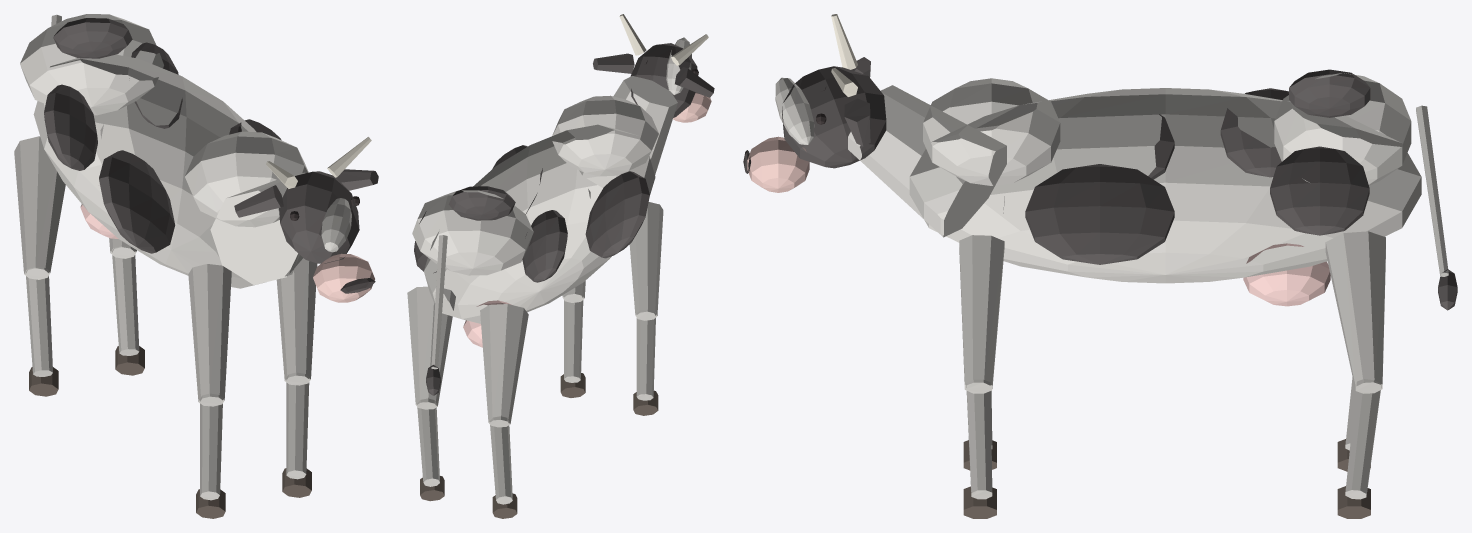
The model's file is cow.glb.
3 views of the same model, side by side, from view 1: azimuth 30°, elevation 25°; view 2: azimuth 150°, elevation 25°; view 3: azimuth 270°, elevation 25° (orthographic). The views are drawn at different scales.
Visible parts, largest first — view 1: Body, Body.Withers, Body.Hips, Body.Patch, Leg.BR, Head.Neck, Leg.FR, Head.Skull, Leg.FL, Body.Patch#2, Body.Patch#5, Leg.BR.Shin (+14 smaller); view 2: Body, Body.Hips, Body.Withers, Leg.BR, Body.Patch, Leg.BL, Leg.FR, Head.Neck, Body.Patch#2, Head.Skull, Body.Patch#5, Leg.FR.Shin (+16 smaller); view 3: Body, Body.Patch#3, Body.Withers, Head.Neck, Leg.BL, Body.Patch#4, Body.Hips, Leg.FL, Head.Skull, Body.Patch#5, Body.Udder, Leg.BL.Shin (+9 smaller).
Boxes of the visible parts, box(x1,y1,x2,y2) form: Body: box(33, 54, 299, 288); Body.Withers: box(185, 131, 308, 227); Body.Hips: box(20, 14, 163, 115); Body.Patch: box(99, 150, 175, 253); Leg.BR: box(14, 136, 65, 279); Head.Neck: box(210, 172, 321, 284); Leg.FR: box(188, 264, 231, 406); Head.Skull: box(279, 171, 359, 263); Leg.FL: box(276, 258, 317, 385); Body.Patch#2: box(44, 84, 97, 170); Body.Patch#5: box(53, 18, 132, 58); Leg.BR.Shin: box(25, 267, 52, 376); Body: box(424, 124, 655, 323); Body.Hips: box(412, 190, 533, 275); Body.Withers: box(552, 95, 658, 176); Leg.BR: box(480, 304, 528, 427); Body.Patch: box(585, 171, 649, 258); Leg.BL: box(407, 286, 455, 409); Leg.FR: box(629, 202, 663, 320); Head.Neck: box(579, 76, 677, 187); Body.Patch#2: box(522, 210, 567, 282); Head.Skull: box(630, 43, 697, 117); Body.Patch#5: box(448, 186, 515, 220); Leg.FR.Shin: box(636, 309, 655, 400); Body: box(909, 88, 1421, 283); Body.Patch#3: box(1025, 164, 1174, 264); Body.Withers: box(923, 78, 1060, 185); Head.Neck: box(848, 85, 1006, 237); Leg.BL: box(1325, 231, 1385, 393); Body.Patch#4: box(1270, 146, 1369, 235); Body.Hips: box(1274, 73, 1411, 185); Leg.FL: box(959, 235, 1004, 393); Head.Skull: box(782, 66, 886, 168); Body.Patch#5: box(1289, 69, 1370, 117); Body.Udder: box(1243, 243, 1330, 306); Leg.BL.Shin: box(1345, 379, 1381, 499).
Bounding box in the file's own units: 0.62 × 1.51 × 2.18.
